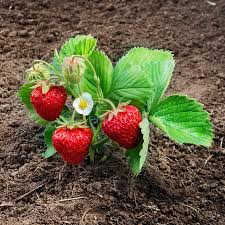ripe: (101, 99, 143, 150), (50, 123, 93, 165), (28, 78, 67, 122)
unripe: (61, 58, 87, 84)
